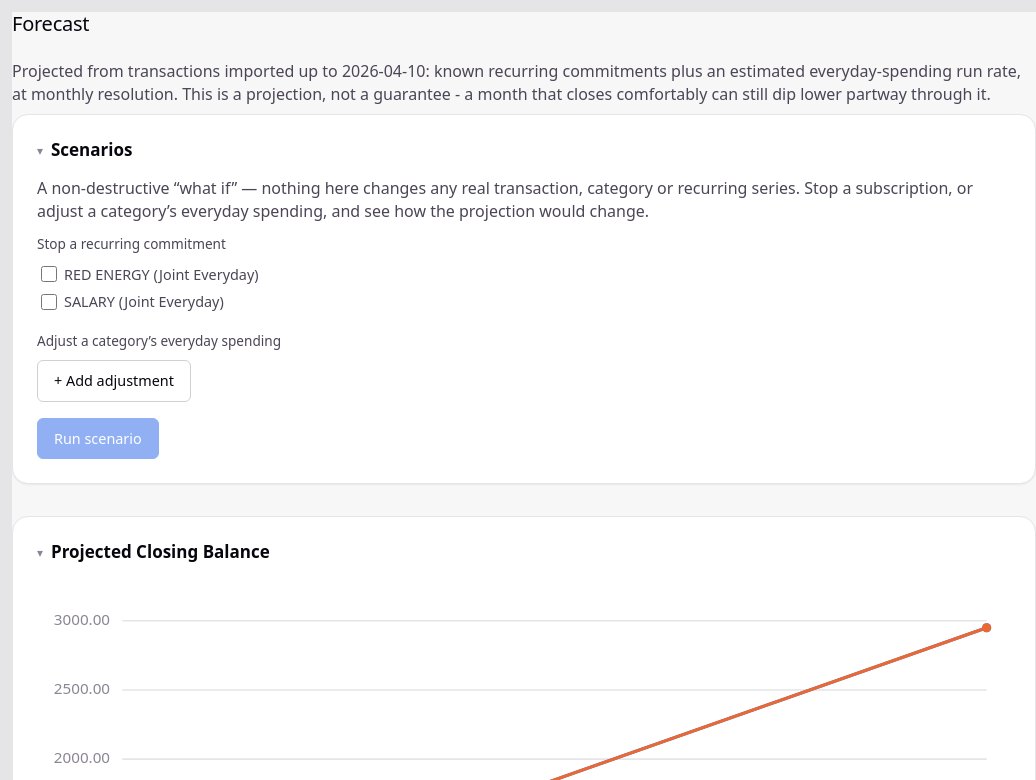
Test: ForecastPage scenarios › runs a stop-this-subscription scenario and shows the comparison
expect the button "▾ Scenarios" is shown: met, box [37,139,1011,161]
Click the checkbox labelled "RED ENERGY (Joint Everyday)" at (49,274), box [41,266,57,282]
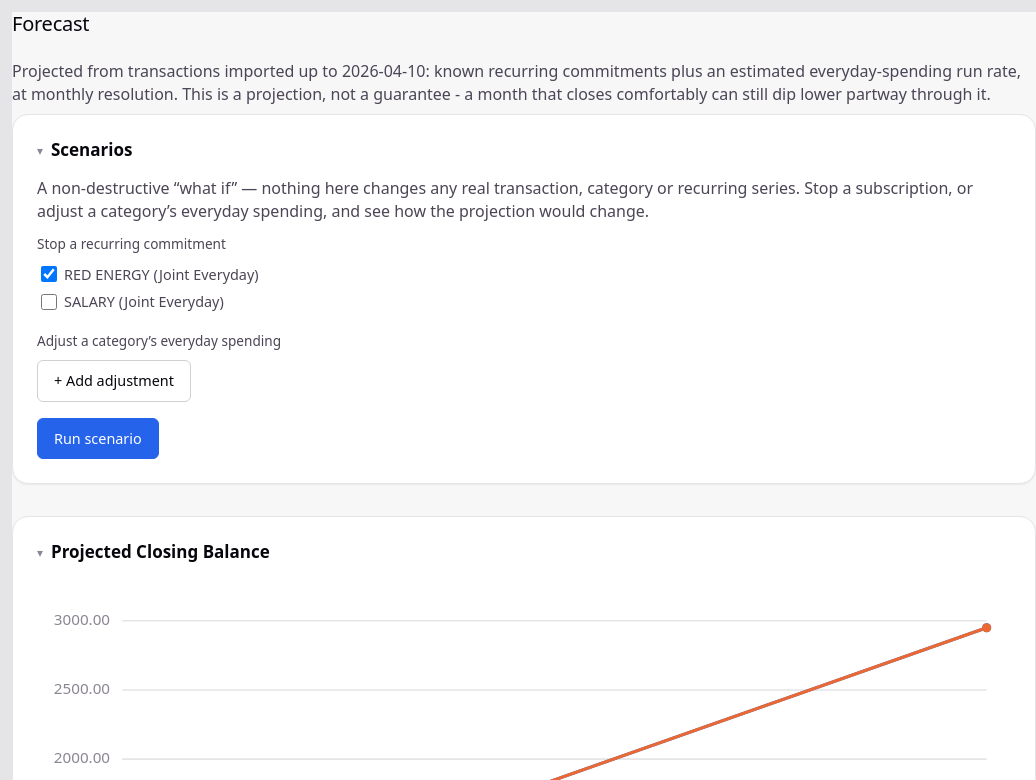
Click the button "Run scenario" at (98,438), box [37,418,159,459]
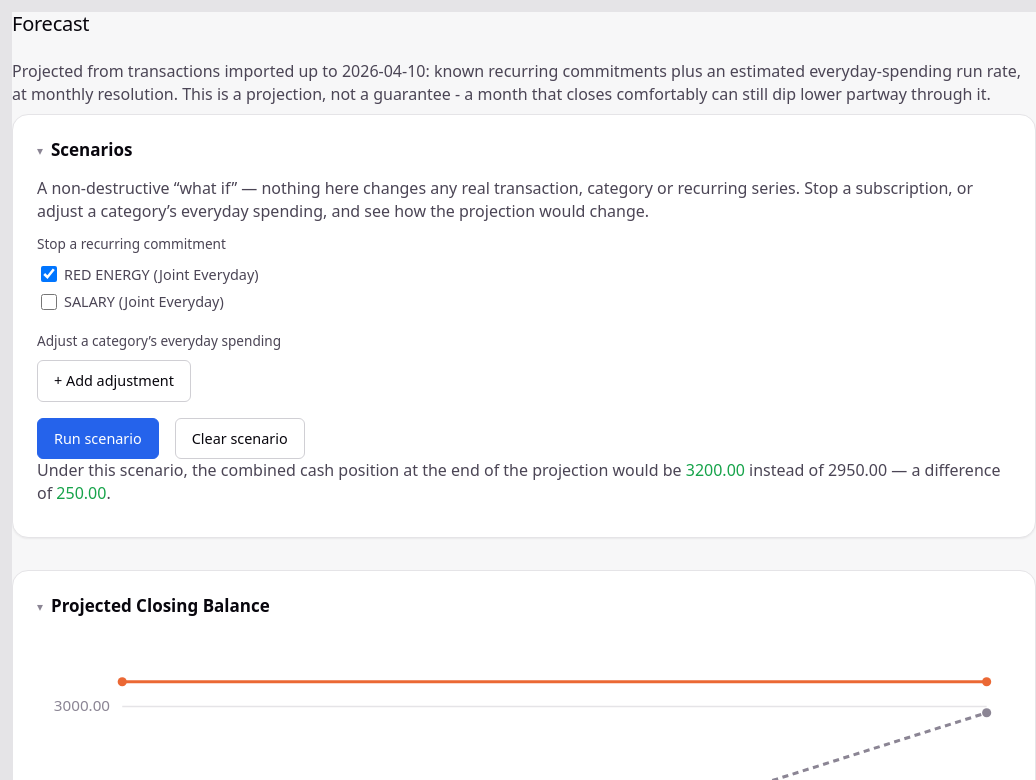
expect the text "3200.00" is shown: met, box [686,459,745,481]
expect the button "Clear scenario" is shown: met, box [175,418,305,459]
